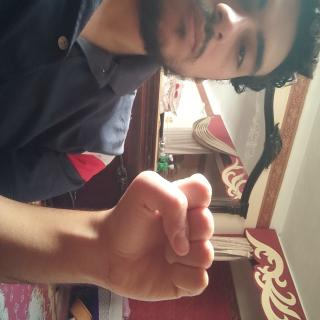SAD: (125, 136, 229, 300)
